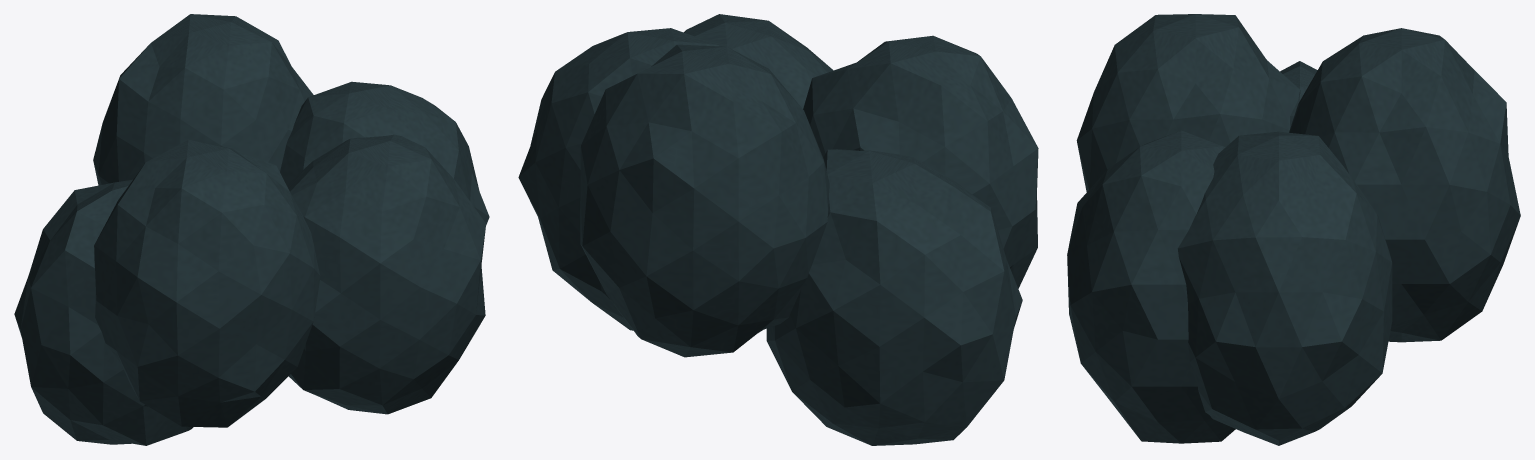
The model's file is heater_3.glb.
The picture shows the model from 3 angles, left to right: view 1: azimuth 30°, elevation 25°; view 2: azimuth 150°, elevation 25°; view 3: azimuth 270°, elevation 25°; orthographic projection. The views are drawn at different scales.
Parts seen in each view (by area): view 1: static_ornament; view 2: static_ornament; view 3: static_ornament.
Part boxes in pixels (left/top/right/bottom): static_ornament: left=14, top=14, right=489, bottom=445; static_ornament: left=518, top=14, right=1038, bottom=445; static_ornament: left=1067, top=14, right=1520, bottom=445.
Bounding box in the file's own units: 0.9003 × 0.6993 × 0.7372.
1 material, 1 textured.
